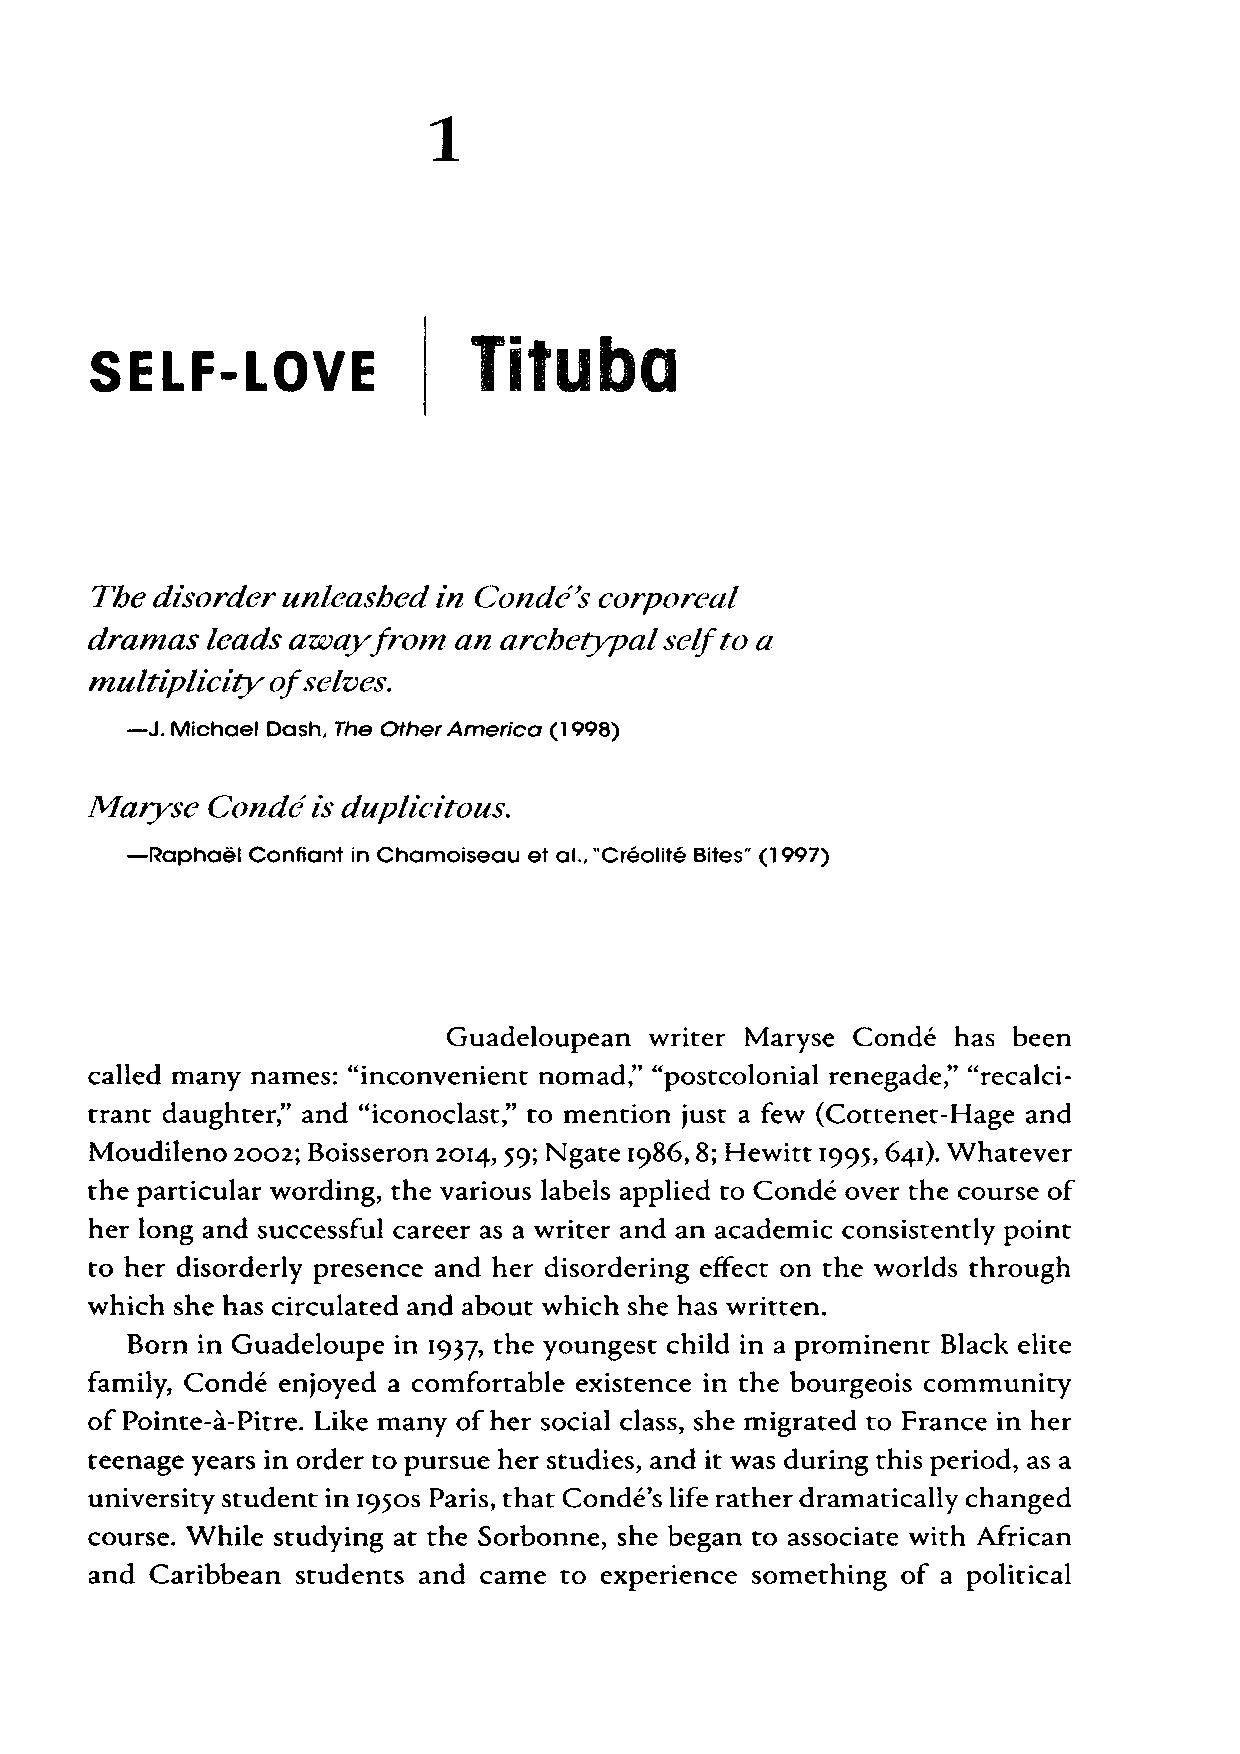chapter: (86, 334, 680, 399)
content: (82, 580, 1078, 1593)
